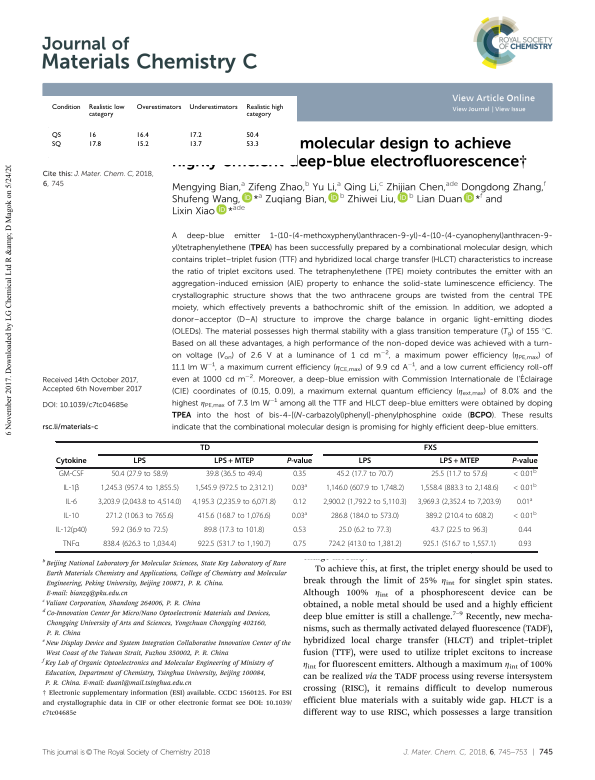borderless: (54, 440, 537, 551), (46, 101, 286, 159)
cell: (191, 498, 277, 508), (322, 498, 408, 508), (97, 498, 182, 508), (417, 498, 502, 508), (100, 484, 180, 494), (194, 484, 274, 494), (325, 484, 405, 494), (419, 484, 499, 494), (197, 512, 272, 522), (102, 540, 177, 550), (197, 540, 272, 550), (327, 540, 402, 550), (422, 540, 497, 550), (105, 512, 175, 522), (330, 512, 400, 522), (424, 512, 494, 522), (245, 103, 284, 119), (203, 526, 265, 536), (87, 103, 125, 119), (110, 470, 169, 480), (430, 470, 489, 480), (110, 526, 169, 536), (430, 526, 489, 536), (205, 470, 263, 480), (336, 470, 394, 480), (338, 526, 392, 536), (188, 103, 238, 112), (135, 103, 182, 112), (213, 457, 255, 467), (439, 457, 480, 467), (55, 526, 88, 536), (55, 457, 87, 467), (512, 469, 537, 480), (512, 483, 537, 494), (512, 511, 537, 522), (51, 103, 81, 112), (286, 457, 313, 467), (511, 457, 538, 467), (58, 470, 85, 480), (291, 483, 308, 494), (516, 497, 533, 508), (291, 511, 308, 522), (62, 484, 80, 494), (62, 540, 80, 550), (63, 512, 80, 522), (132, 457, 147, 467), (292, 470, 307, 480), (292, 498, 307, 508), (292, 526, 307, 536), (517, 526, 532, 536), (292, 540, 307, 550), (517, 540, 532, 550), (358, 457, 372, 467), (64, 498, 78, 508), (423, 444, 438, 453), (135, 131, 149, 140), (188, 131, 202, 140), (245, 131, 259, 140), (87, 140, 101, 149), (135, 140, 149, 149), (188, 140, 202, 149), (245, 140, 259, 149), (199, 444, 211, 453), (51, 131, 61, 140), (51, 140, 61, 149), (87, 131, 96, 140)
